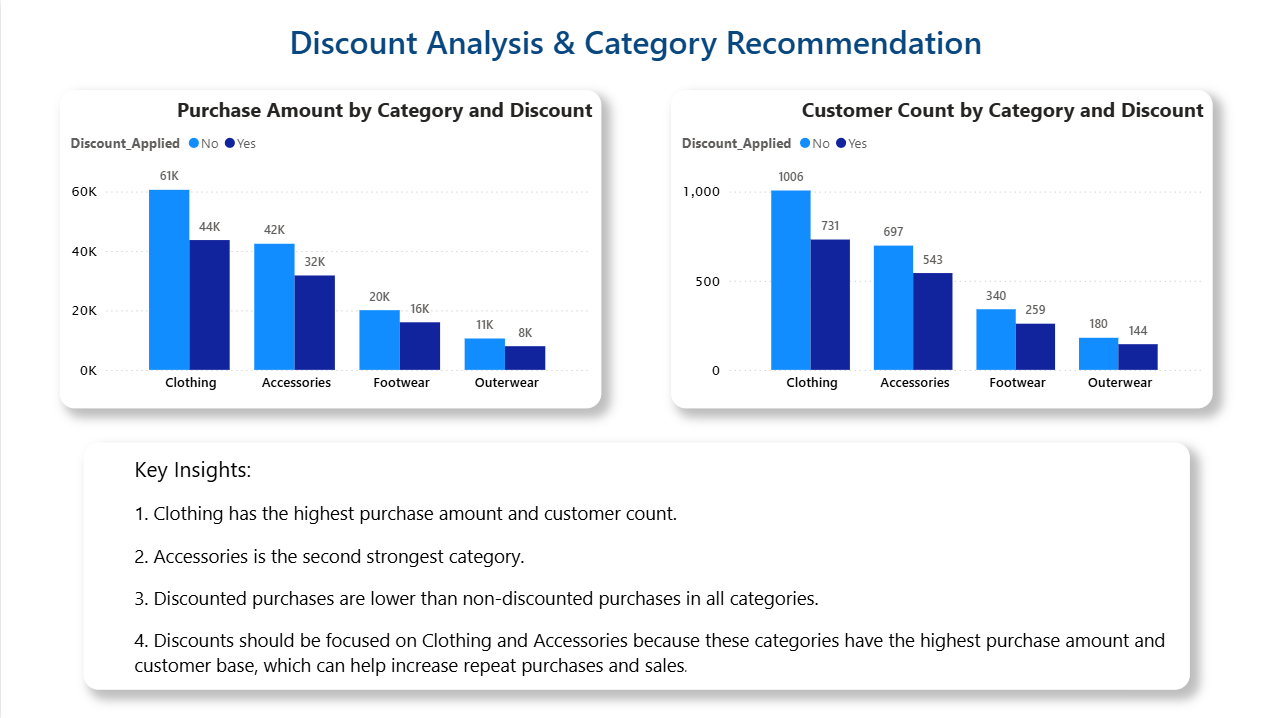

Layout of this report page (visuals, bound fields, positions):
{"tool":"powerbi","page":{"name":"Discount Analysis","canvas":[1280,720],"ordinal":1},"visuals":[{"type":"clusteredColumnChart","title":"Purchase Amount by Category and Discount","fields":{"Category":["shopping_table.Category"],"Y":["Sum(shopping_table.Purchase_Amount_USD)"],"Series":["shopping_table.Discount_Applied"]},"box":[59.1,102.9,541.9,318.2],"z":0},{"type":"clusteredColumnChart","title":"Customer Count by Category and Discount","fields":{"Category":["shopping_table.Category"],"Y":["CountNonNull(shopping_table.Customer_ID)"],"Series":["shopping_table.Discount_Applied"]},"box":[670.6,102.9,541.9,318.2],"z":1000},{"type":"textbox","box":[82.5,448.8,1106.2,247.5],"z":2000},{"type":"textbox","box":[321.9,29.8,663.7,51],"z":3000}]}

Visuals, with their boxes in screenshot pixels (x1, y1, x2, y2), scaled from the page's 1280x720 canvas onto the 1279x718 screenshot:
"Purchase Amount by Category and Discount" clusteredColumnChart: <bbox>59, 103, 601, 420</bbox>
"Customer Count by Category and Discount" clusteredColumnChart: <bbox>670, 103, 1212, 420</bbox>
textbox: <bbox>82, 448, 1188, 694</bbox>
textbox: <bbox>322, 30, 985, 81</bbox>
